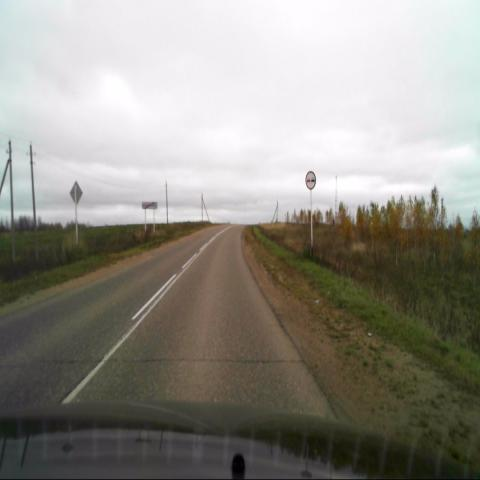3_20: (305, 170, 316, 190)
